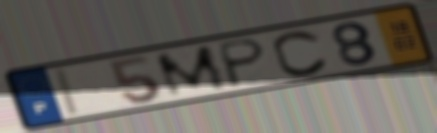5: (105, 53, 164, 105)
8: (330, 21, 380, 67)
C: (270, 28, 332, 78)
I: (54, 66, 84, 118)
M: (151, 42, 233, 101)
P: (217, 36, 269, 90)
